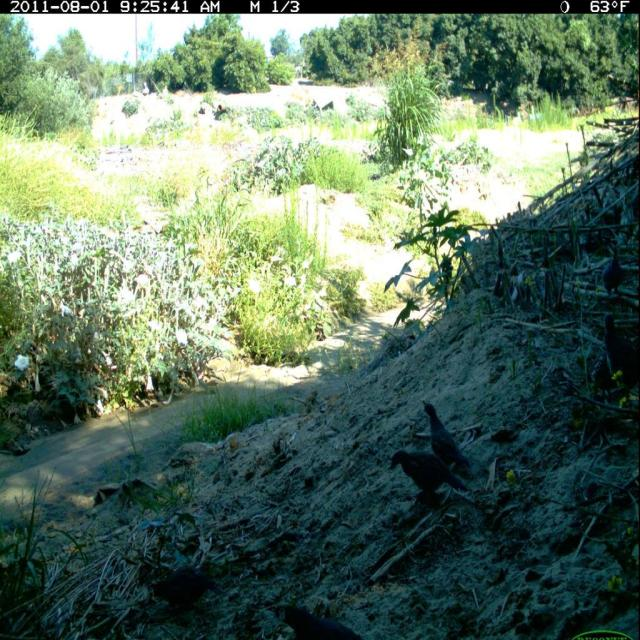bird: (589, 349, 622, 396)
